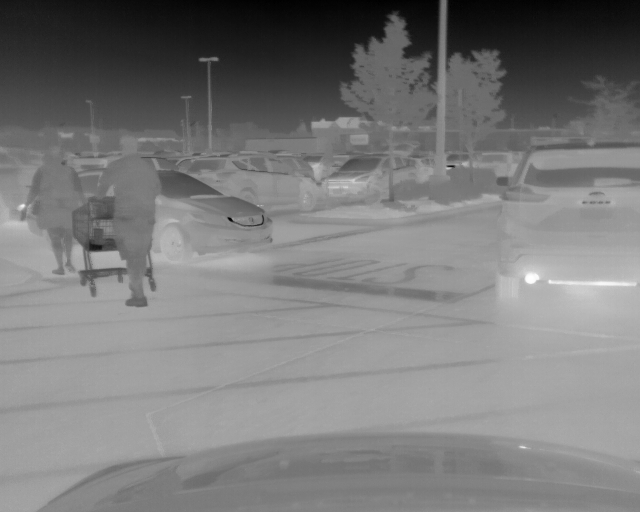car: (498, 140, 640, 298), (26, 169, 274, 257), (185, 154, 325, 211), (317, 152, 424, 207), (3, 147, 54, 222), (470, 151, 520, 187), (443, 149, 474, 174)
people: (97, 135, 161, 308), (25, 150, 85, 277)
